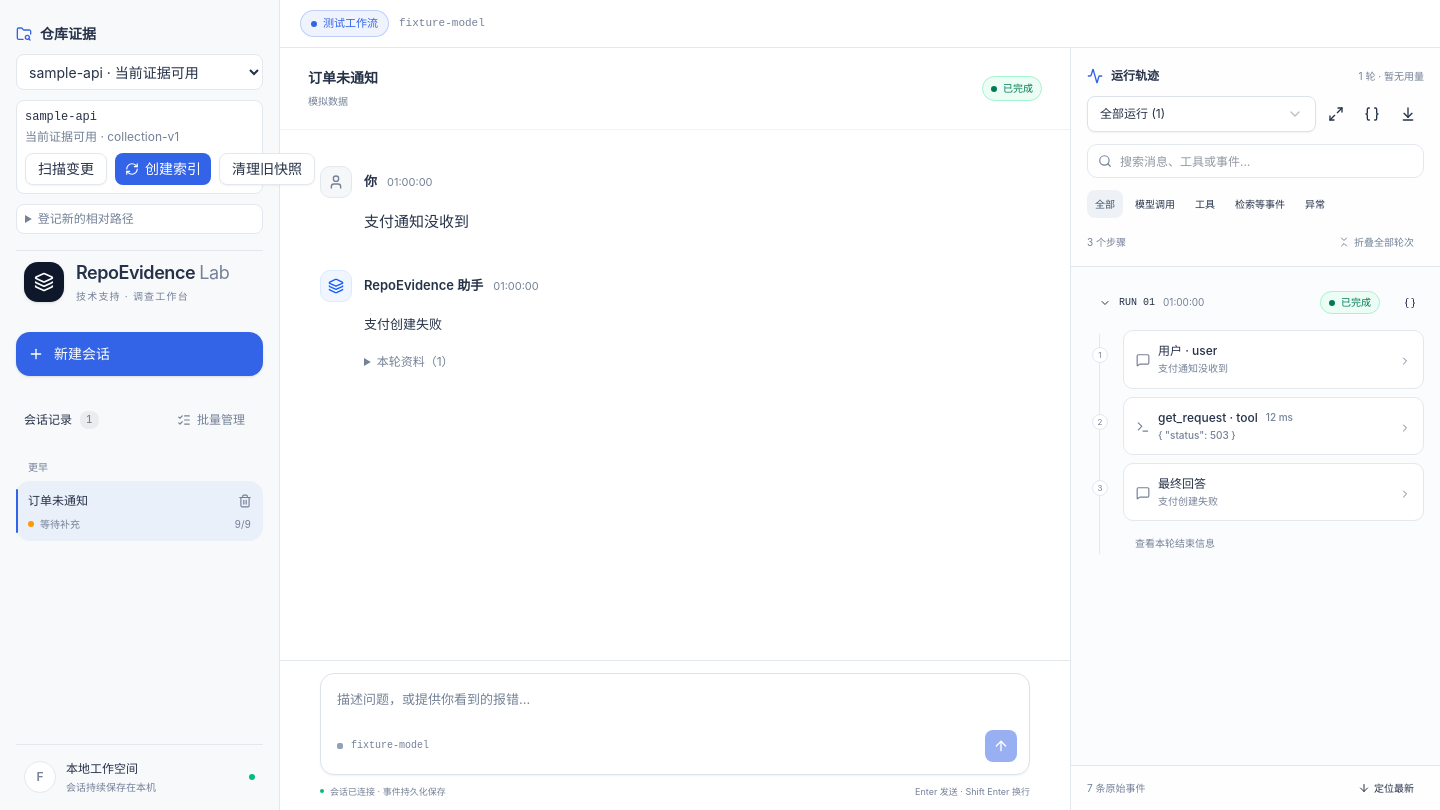
Test case: chat workspace interactions › restores history, renders tool details and opens cited evidence
expect the text "支付创建失败" below "RepoEvidence 助手" is shown: met, box left=364, top=316, right=442, bottom=332
Click the text "get_request · tool".
click(1208, 418)  # box left=1158, top=410, right=1258, bottom=426
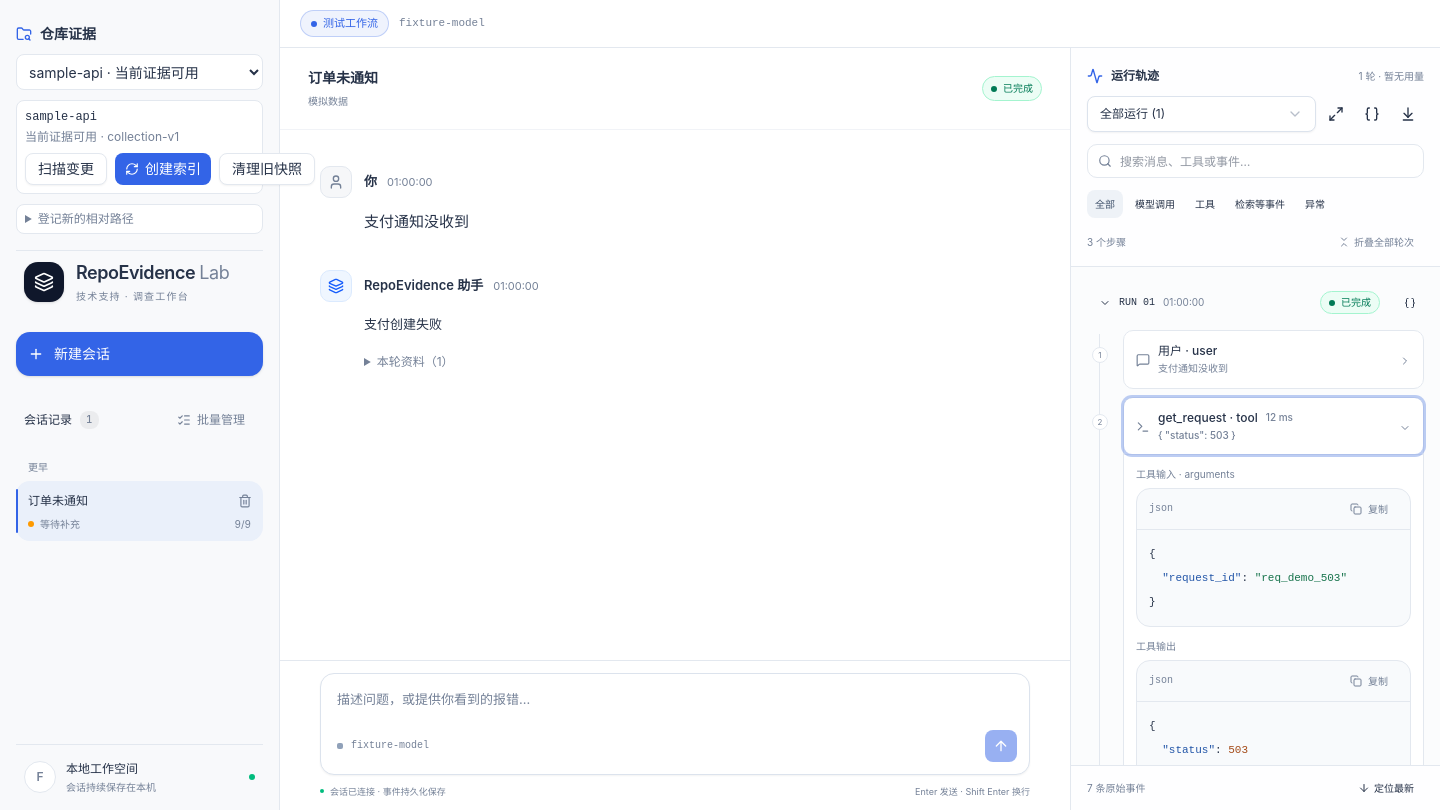
Click the heading "本轮资料（1）".
click(415, 362)  # box left=377, top=354, right=454, bottom=369
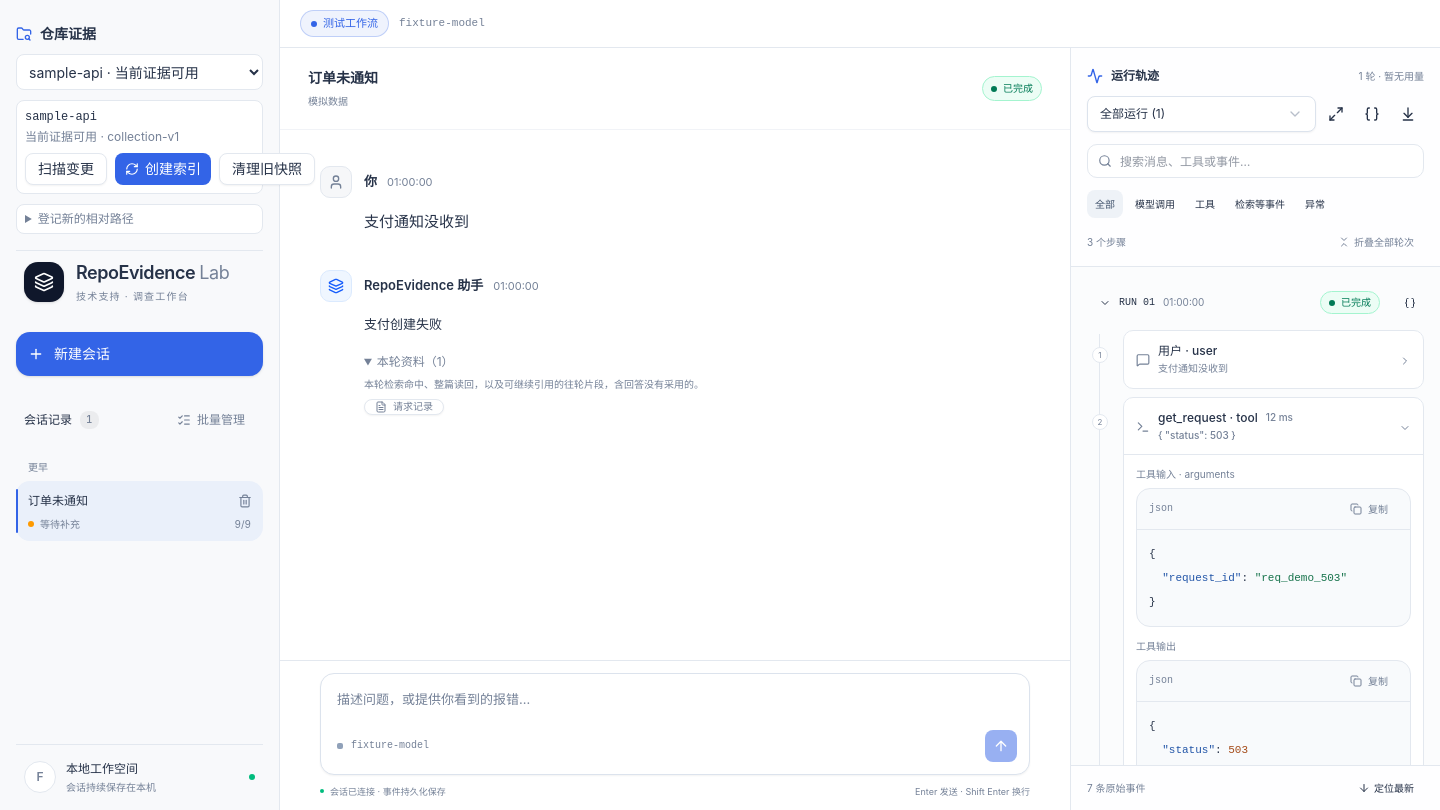
Click the button "请求记录".
click(404, 407)  # box left=364, top=399, right=444, bottom=415
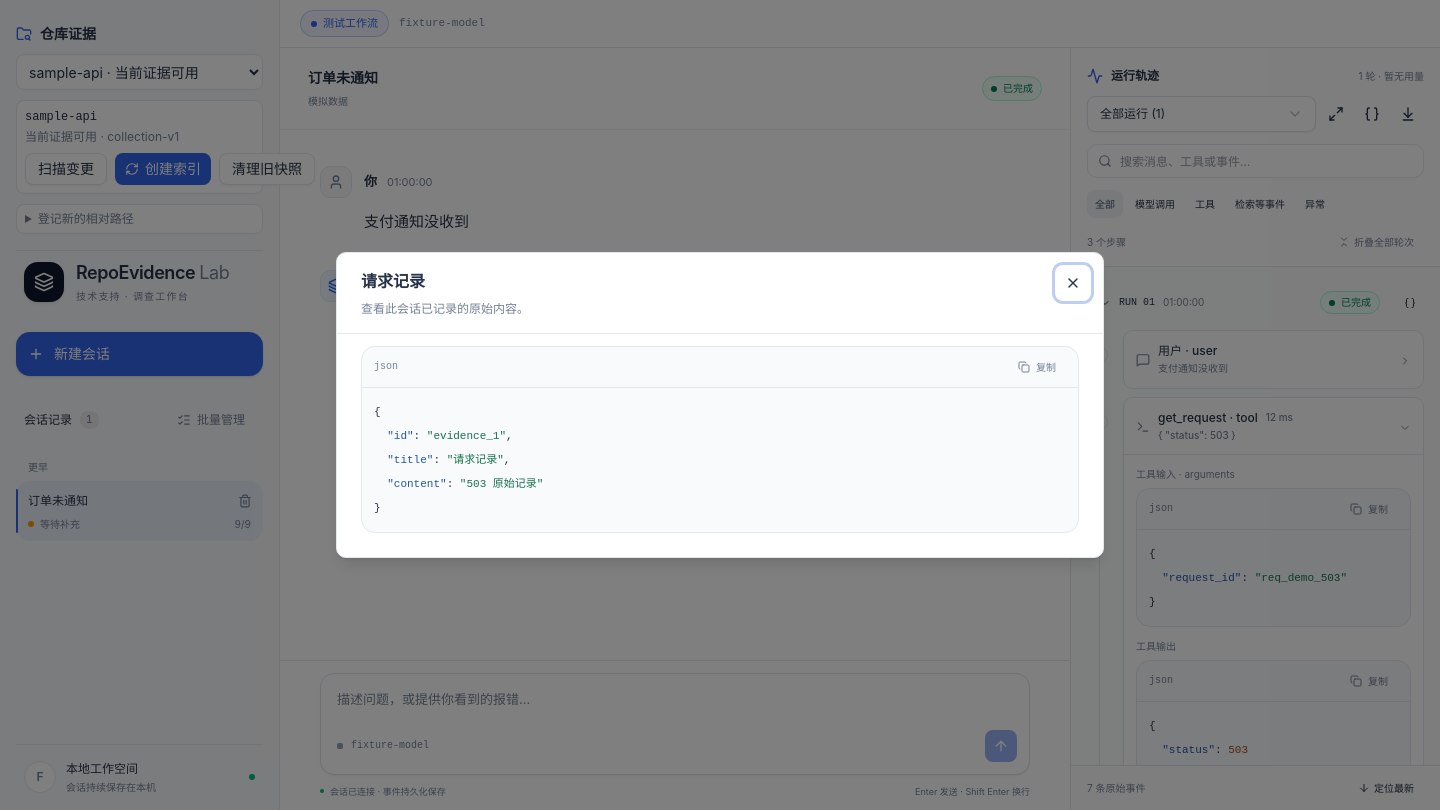
expect the dialog is shown: met, box left=336, top=252, right=1104, bottom=558
expect the dialog shows "503 原始记录": met, box left=460, top=478, right=543, bottom=490
Click the button named "关闭详情".
click(1073, 283)  # box left=1055, top=265, right=1091, bottom=301
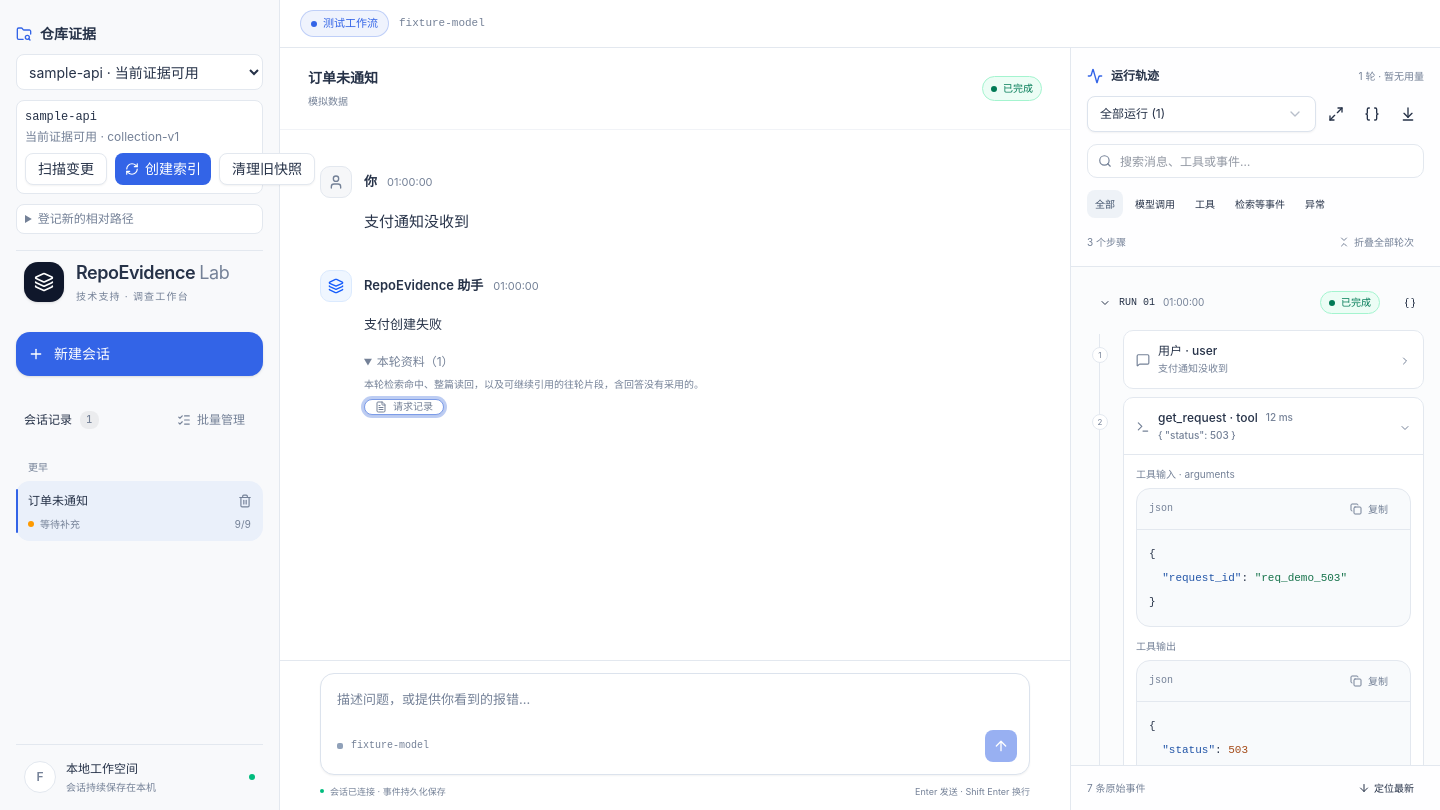
expect the dialog is gone: met
